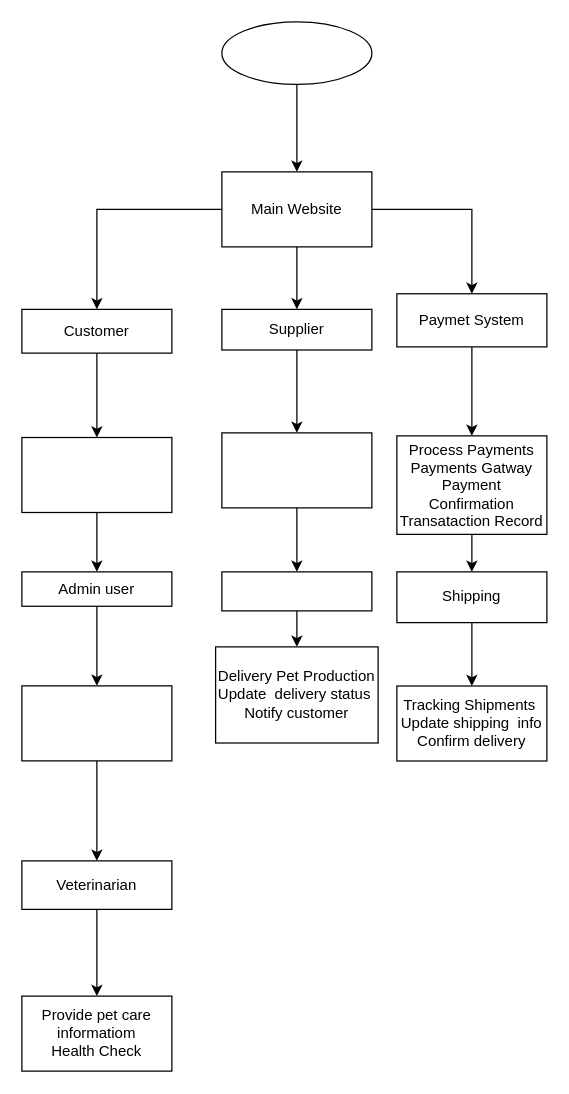
The diagram is 569 pixels wide and 1094 high, and some of its shapes have lost their labels. The shapes that lost their labels are listed below. From the top down, each one's box as (x1, y1, x2, y2) in pixels, then its label:
(221, 21, 372, 84): Pet Store System
(21, 436, 172, 512): Browsr product Add to Cart Place Order View Order History
(221, 432, 372, 508): Supplier Pet Product Update Inventory Send Invoices Order Status
(221, 571, 372, 611): Delivery
(21, 685, 172, 761): Manage Products Manage Inventory View Oders
